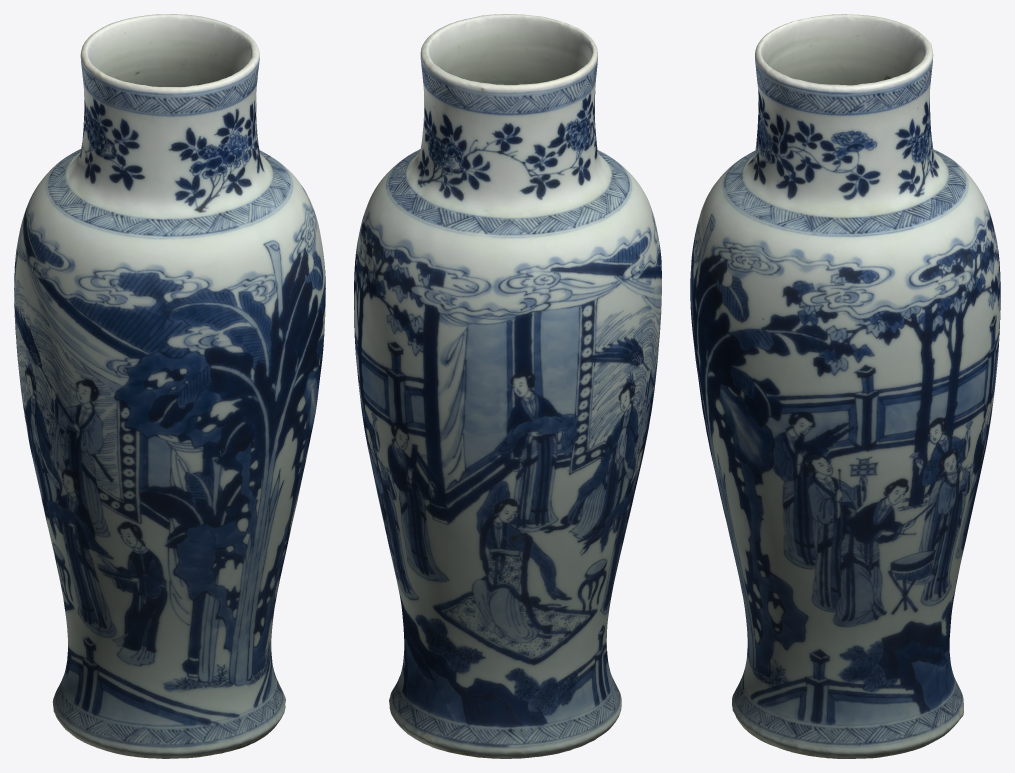
File: baluster-vase.glb
3 renders of one model, left to right at view 1: azimuth 30°, elevation 25°; view 2: azimuth 150°, elevation 25°; view 3: azimuth 270°, elevation 25°, orthographic.
Bounding box in the file's own units: 0.1708 × 0.4053 × 0.1718.
Materials: 1 (1 with a texture image).
